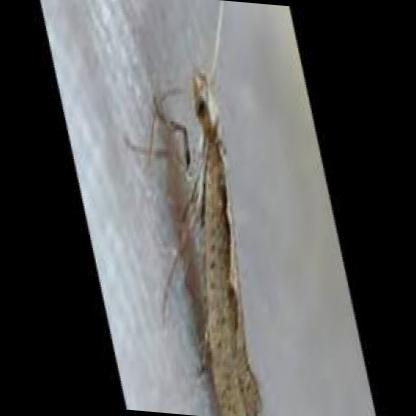plutella: (124, 59, 267, 416)
